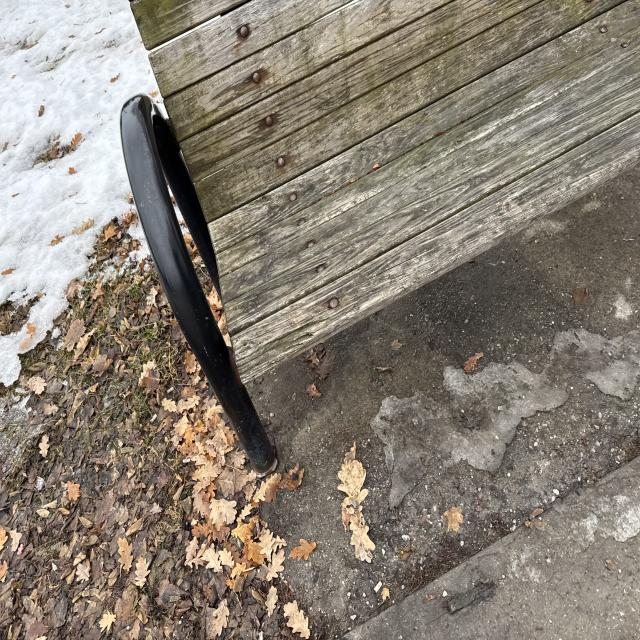Bench: (112, 0, 640, 448)
